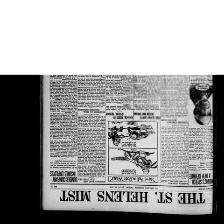news_paper: (38, 73, 216, 216)
